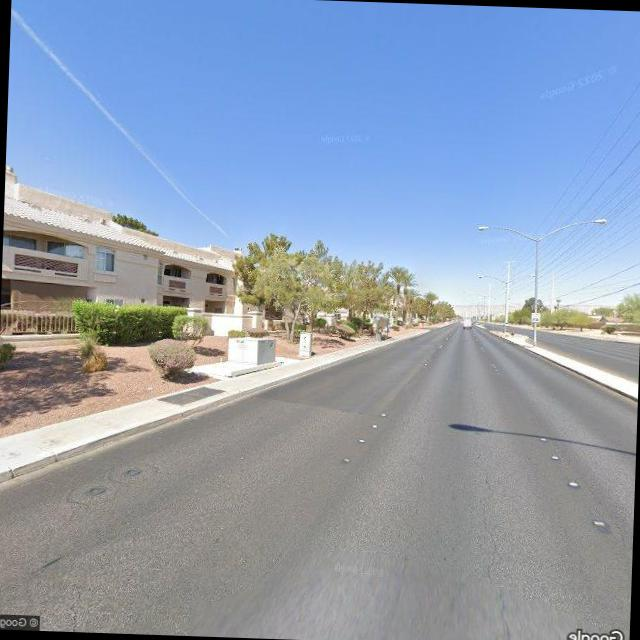pothole: (473, 463, 522, 640), (63, 584, 87, 631)
